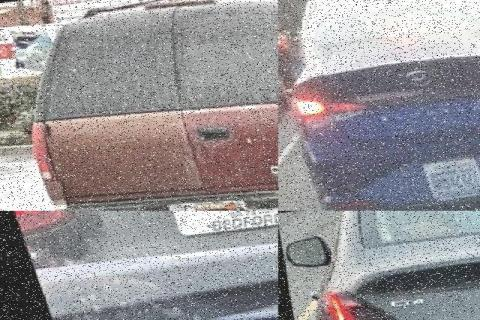LicensePlate: (164, 210, 277, 238), (412, 158, 478, 203), (172, 201, 230, 210)
